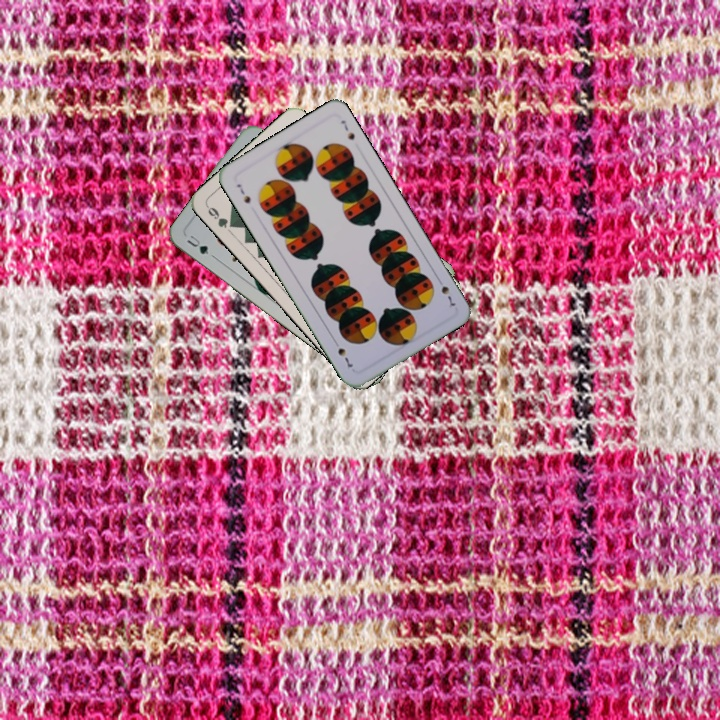G9: (203, 202, 238, 231)
GU: (183, 231, 211, 257)
S7: (433, 273, 458, 310), (233, 180, 253, 206)
